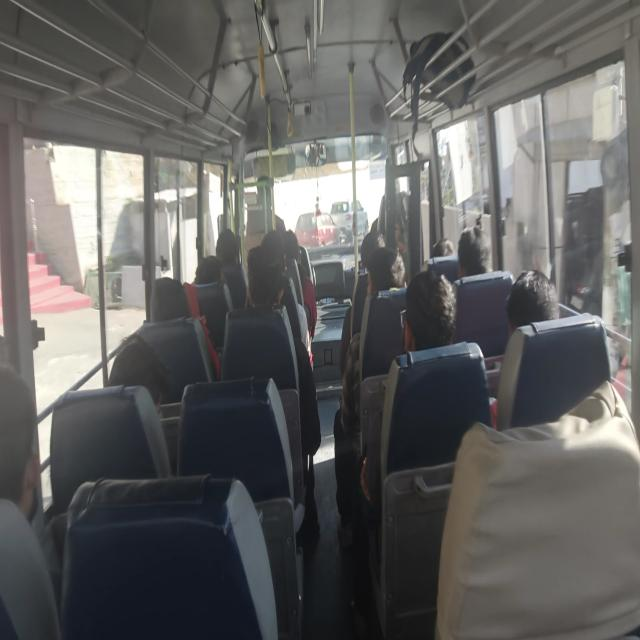person: (1, 353, 46, 518), (401, 252, 462, 349), (506, 265, 570, 347), (108, 334, 172, 409), (148, 271, 204, 324), (362, 240, 404, 291), (246, 252, 281, 313), (457, 224, 493, 279), (430, 221, 456, 267), (253, 168, 283, 207), (379, 173, 411, 209), (192, 251, 226, 284), (213, 224, 241, 262), (283, 232, 312, 268), (361, 228, 387, 268), (259, 227, 284, 268)
